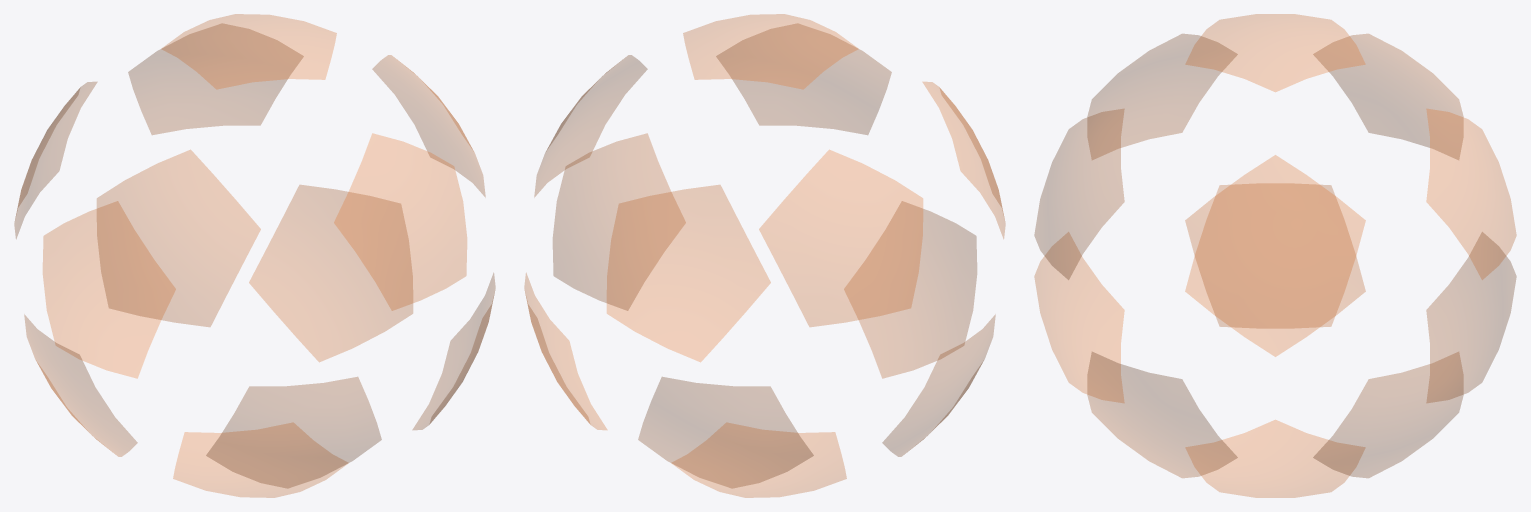
File: Shield.fbx
The picture shows the model from 3 angles, left to right: view 1: azimuth 30°, elevation 25°; view 2: azimuth 150°, elevation 25°; view 3: azimuth 270°, elevation 25°; orthographic projection.
Visible parts, largest first — view 1: Icosphere; view 2: Icosphere; view 3: Icosphere.
Boxes of the visible parts, x1,y1,x2,y2 form: Icosphere: (14,14,495,497); Icosphere: (524,14,1005,497); Icosphere: (1034,14,1516,497).
Bounding box in the file's own units: 911 × 922 × 911.
